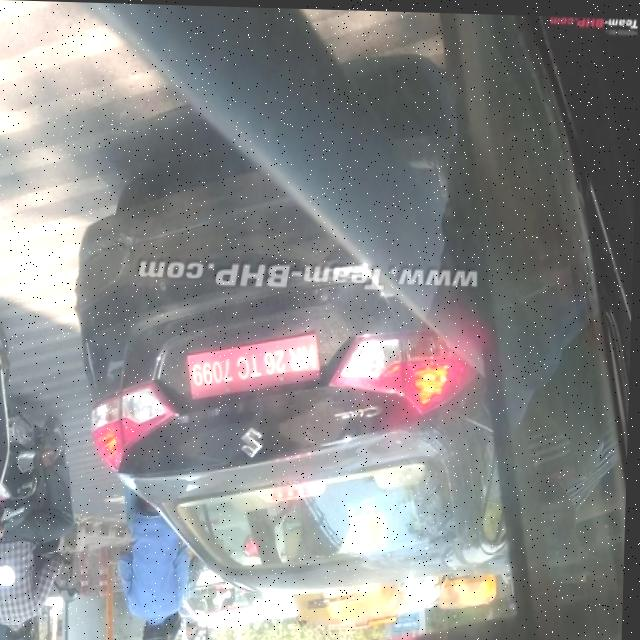plate: (188, 328, 326, 405)
